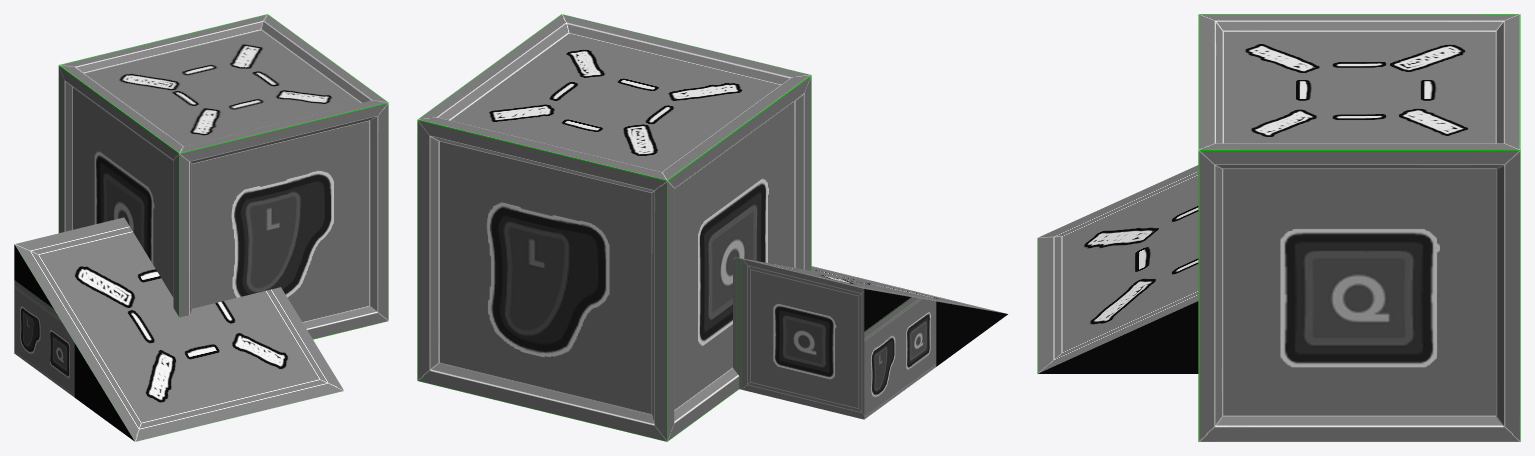
The model's file is Moveable_Sets.fbx.
The picture shows the model from 3 angles, left to right: view 1: azimuth 30°, elevation 25°; view 2: azimuth 150°, elevation 25°; view 3: azimuth 270°, elevation 25°; orthographic projection. The views are drawn at different scales.
Visible parts, largest first — view 1: Moveable_1m, pushable_Ramp_1x1xh; view 2: Moveable_1m, pushable_Ramp_1x1xh; view 3: Moveable_1m, pushable_Ramp_1x1xh.
Boxes of the visible parts, x1,y1,x2,y2 form: Moveable_1m: [58, 14, 388, 339]; pushable_Ramp_1x1xh: [14, 217, 343, 441]; Moveable_1m: [417, 14, 811, 441]; pushable_Ramp_1x1xh: [733, 257, 1007, 419]; Moveable_1m: [1198, 14, 1520, 441]; pushable_Ramp_1x1xh: [1037, 165, 1198, 373].
Bounding box in the file's own units: 59.06 × 39.37 × 59.06.
